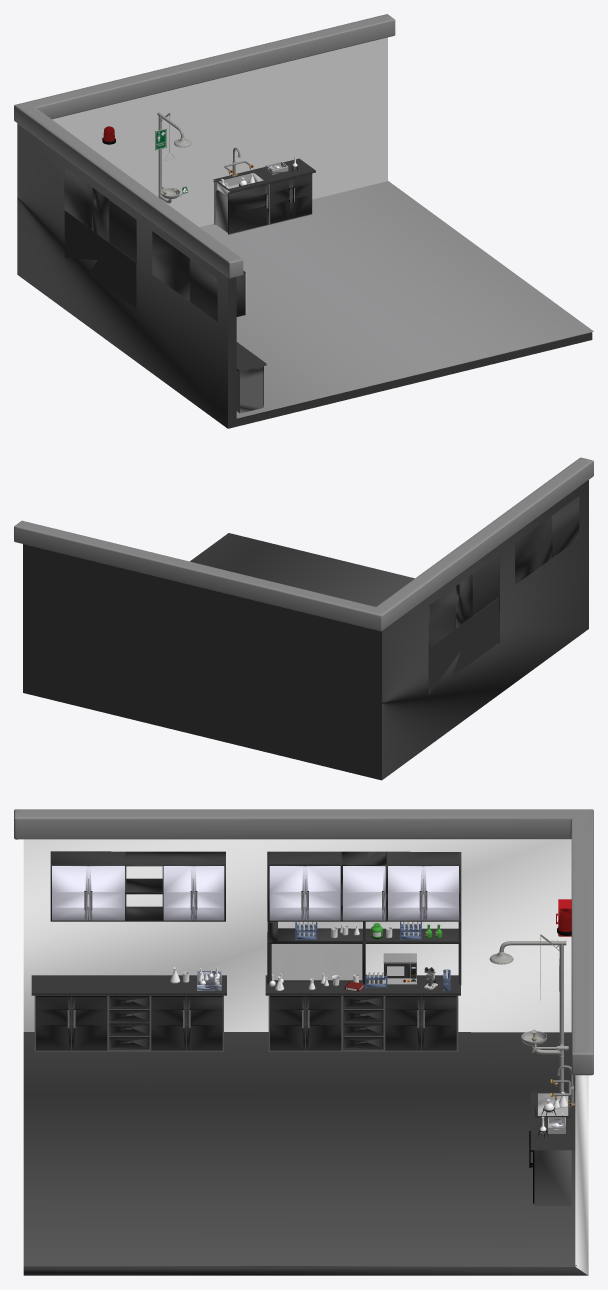
Rendered from ChemLab02.glb.
3 views of the same model, one above another, from view 1: azimuth 30°, elevation 25°; view 2: azimuth 150°, elevation 25°; view 3: azimuth 270°, elevation 25° (orthographic). The views are drawn at different scales.
Parts seen in each view (by area): view 1: _gltfNode_256, EmergencyShower_Shower_MAT_0; view 2: _gltfNode_256; view 3: _gltfNode_256, Cube, EmergencyShower_Shower_MAT_0.
Part boxes in pixels (x1,y1,x2,y2): _gltfNode_256: (14,14,593,428); EmergencyShower_Shower_MAT_0: (155,112,191,203); _gltfNode_256: (14,457,593,780); _gltfNode_256: (14,809,593,1275); Cube: (270,944,362,981); EmergencyShower_Shower_MAT_0: (489,934,568,1091).
Bounding box in the file's own units: 15.52 × 6.7 × 15.52.
Materials: 41 (8 with a texture image).
